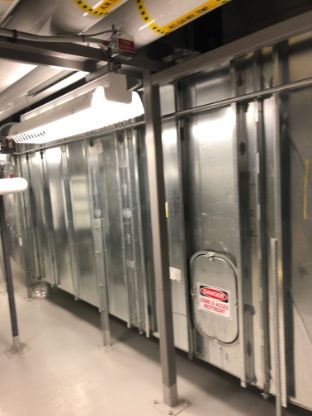Duct: (3, 72, 311, 412)
